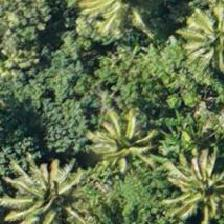coconut_tree: (58, 93, 148, 183), (7, 156, 97, 223), (156, 144, 223, 223)
